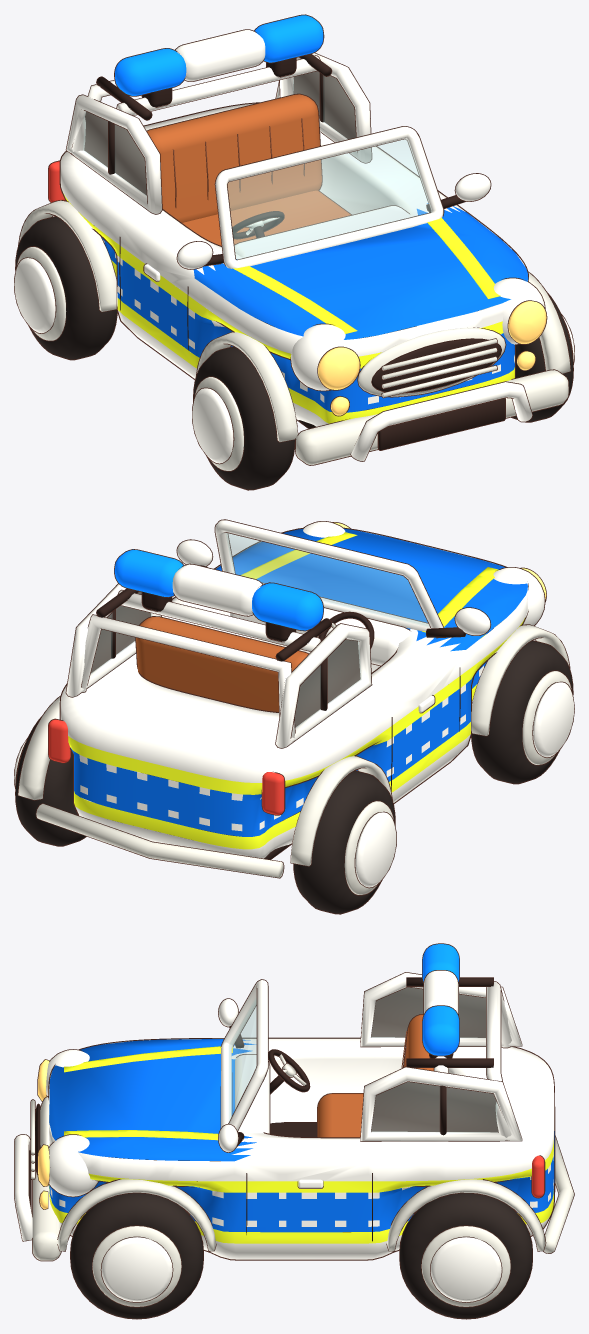
Rendered from polizeiauto.glb.
The picture shows the model from 3 angles, top to bottom: view 1: azimuth 30°, elevation 25°; view 2: azimuth 150°, elevation 25°; view 3: azimuth 270°, elevation 25°; orthographic projection. The views are drawn at different scales.
Visible parts, largest first — view 1: Body_Mesh, Windshield_Glass, Cube.003, Tire_Mesh, Tire_Mesh.001, Windshield_Frame_Curve, Cube.012, Side_Window_Frame_L_Curve, Front_Protection_Curve, Cube.002, Cube.009, Wheel_Arch_Trim_FL_Mesh (+32 smaller); view 2: Body_Mesh, Tire_Mesh, Tire_Mesh.001, Cube.003, Windshield_Glass, Windshield_Frame_Curve, Bumper_Rear_Curve, Side_Window_Frame_L_Curve, Rear_Cabin_Hoop_Curve, Tire_Mesh.003, Cube.009, Wheel_Arch_Trim_RL_Mesh (+26 smaller); view 3: Body_Mesh, Tire_Mesh.002, Tire_Mesh.003, Side_Window_R_Mesh, Outline_Side_Window_R, Side_Window_Frame_R_Curve, Windshield_Frame_Curve, Outline_Side_Window_L, Side_Window_L_Mesh, Wheel_Arch_Trim_FR_Mesh, Wheel_Arch_Trim_RR_Mesh, Side_Window_Frame_L_Curve (+24 smaller).
Boxes of the visible parts, x1,y1,x2,y2 form: Body_Mesh: (60,103,528,426); Windshield_Glass: (227,138,431,259); Cube.003: (147,94,321,222); Tire_Mesh: (192,347,294,489); Tire_Mesh.001: (14,217,116,359); Windshield_Frame_Curve: (215,126,443,268); Cube.012: (295,370,568,464); Side_Window_Frame_L_Curve: (66,95,161,214); Front_Protection_Curve: (351,382,532,461); Cube.002: (182,190,350,245); Cube.009: (176,30,265,81); Wheel_Arch_Trim_FL_Mesh: (197,332,297,441); Body_Mesh: (60,528,527,858); Tire_Mesh: (471,641,574,783); Tire_Mesh.001: (294,771,396,913); Cube.003: (136,617,308,711); Windshield_Glass: (226,533,429,626); Windshield_Frame_Curve: (215,520,443,631); Bumper_Rear_Curve: (36,804,283,877); Side_Window_Frame_L_Curve: (276,624,371,748); Rear_Cabin_Hoop_Curve: (81,615,294,740); Tire_Mesh.003: (14,719,85,845); Cube.009: (172,564,262,615); Wheel_Arch_Trim_RL_Mesh: (290,756,391,866); Body_Mesh: (49,1038,554,1259); Tire_Mesh.002: (70,1193,203,1318); Tire_Mesh.003: (400,1193,532,1318); Side_Window_R_Mesh: (371,1082,498,1132); Outline_Side_Window_R: (371,1082,498,1132); Side_Window_Frame_R_Curve: (360,1067,521,1141); Windshield_Frame_Curve: (221,980,267,1130); Outline_Side_Window_L: (371,987,485,1037); Side_Window_L_Mesh: (371,987,485,1037); Wheel_Arch_Trim_FR_Mesh: (57,1179,216,1250); Wheel_Arch_Trim_RR_Mesh: (387,1179,545,1250); Side_Window_Frame_L_Curve: (360,972,521,1046).
Size of the model in its own units: 1.65 by 1.3 by 2.45.
